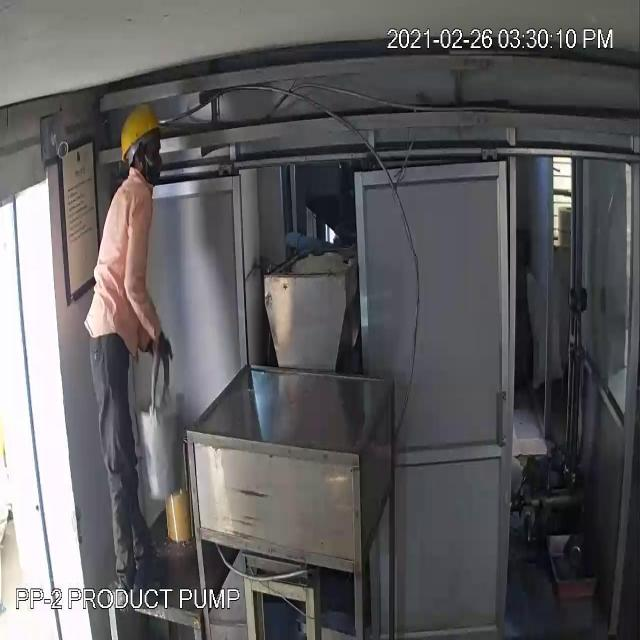hat: (116, 110, 170, 182)
